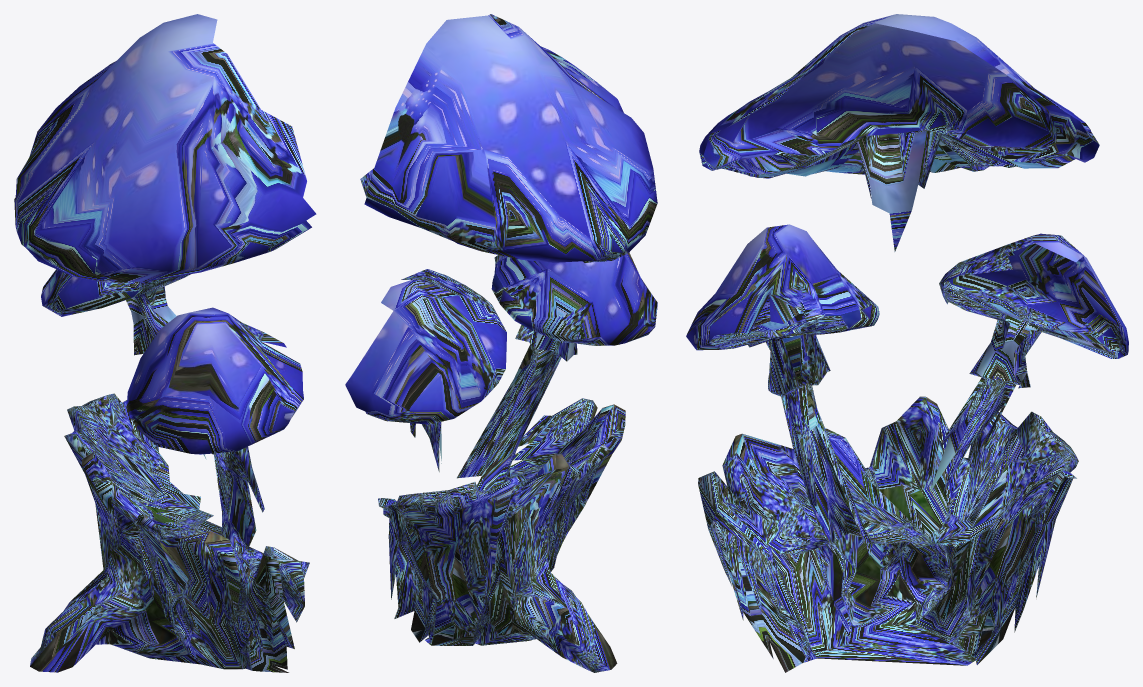
Rendered from hf_magicmush.glb.
The picture shows the model from 3 angles, left to right: view 1: azimuth 30°, elevation 25°; view 2: azimuth 150°, elevation 25°; view 3: azimuth 270°, elevation 25°; orthographic projection. The views are drawn at different scales.
Bounding box in the file's own units: 0.6542 × 1.9 × 1.2.
Materials: 1 (1 with a texture image).
